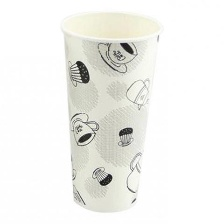paper_cup: (54, 5, 168, 217)
